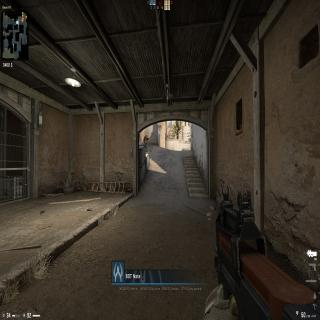T-Head: (146, 134, 148, 138)
